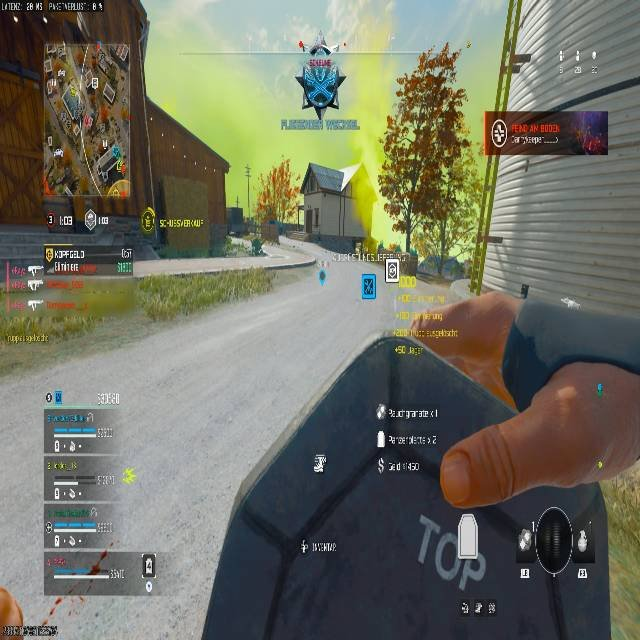player: (294, 41, 347, 119)
